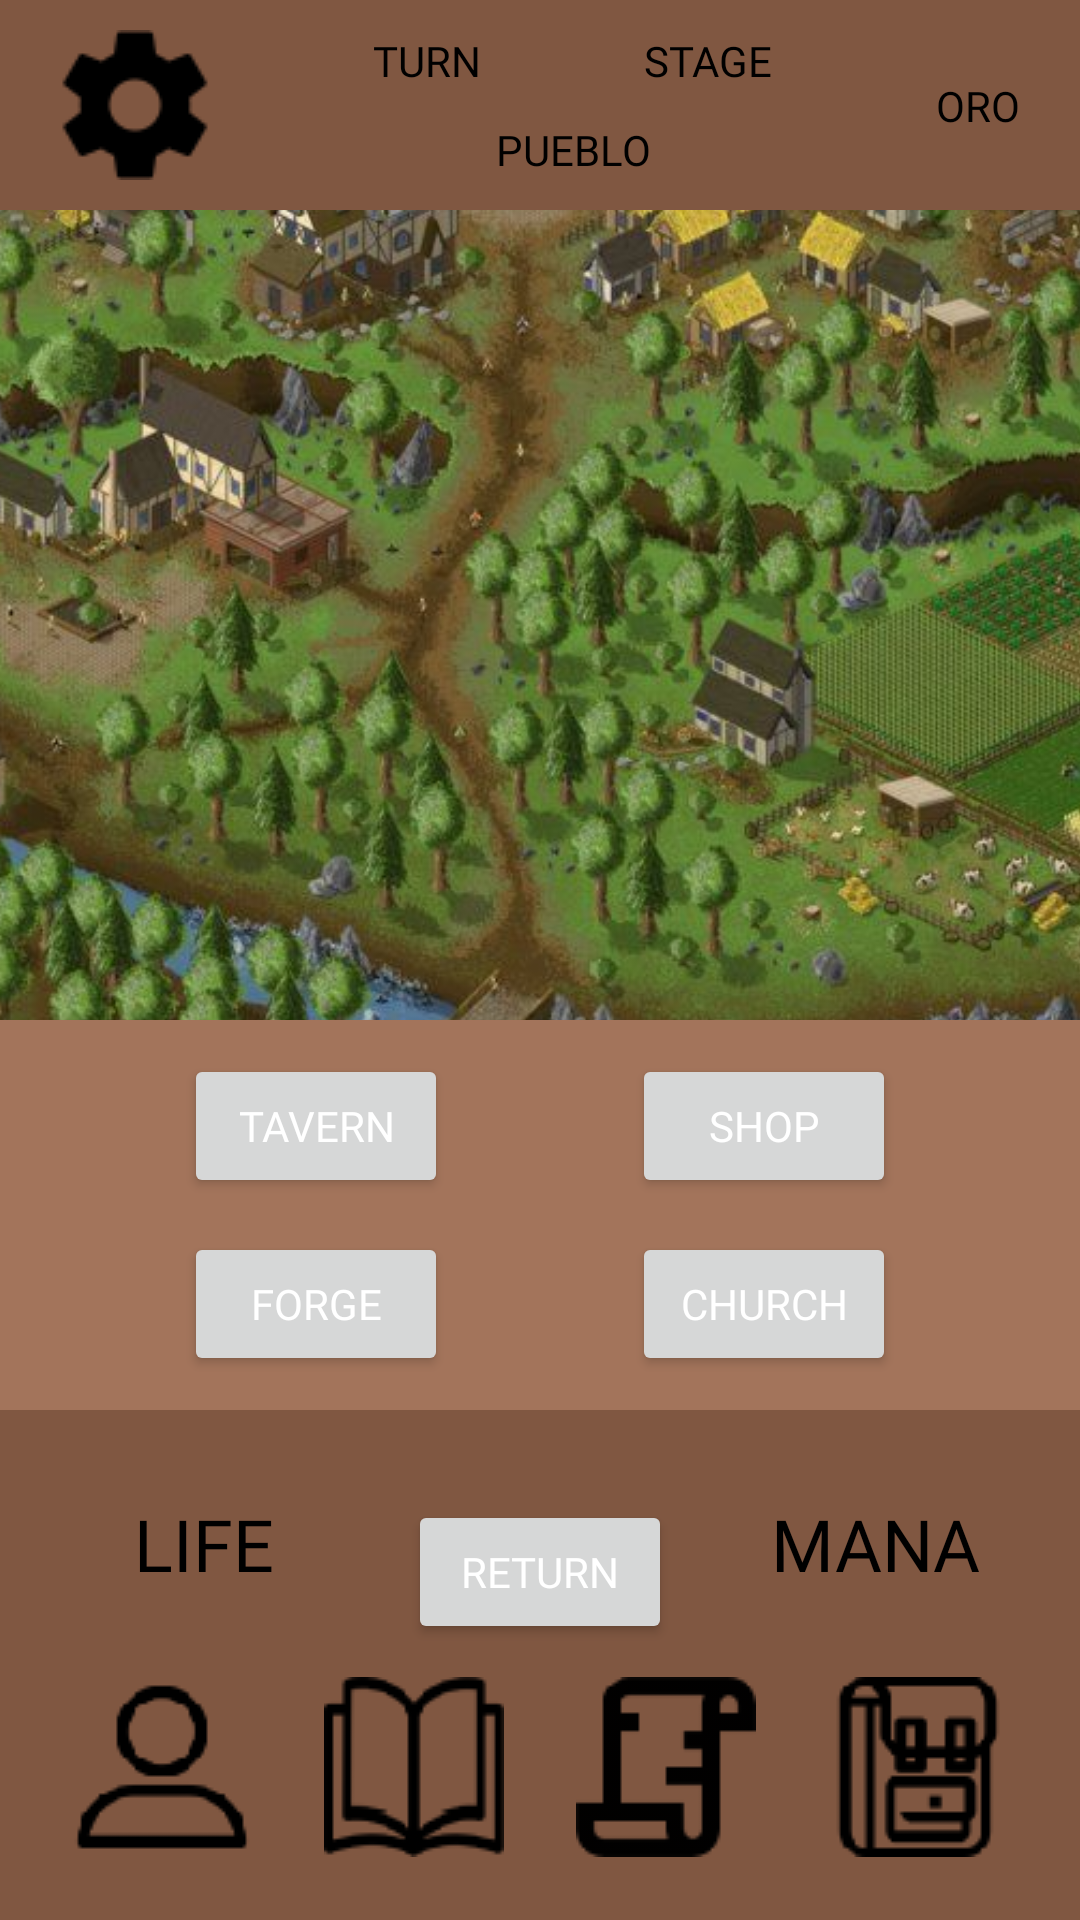

Icon bounding boxes for this 1080px×1920px phone screenshot, format (x1, y1, x2, y2):
backpack: (839, 1677, 997, 1857)
book: (324, 1677, 504, 1857)
profile: (77, 1685, 247, 1849)
quest: (576, 1677, 756, 1857)
settings: (62, 30, 208, 180)
